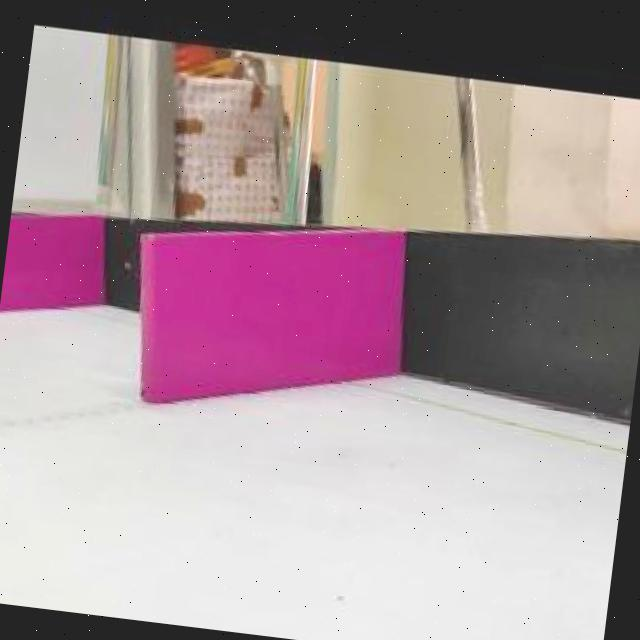xparking: (139, 236, 400, 419), (0, 223, 99, 322)
